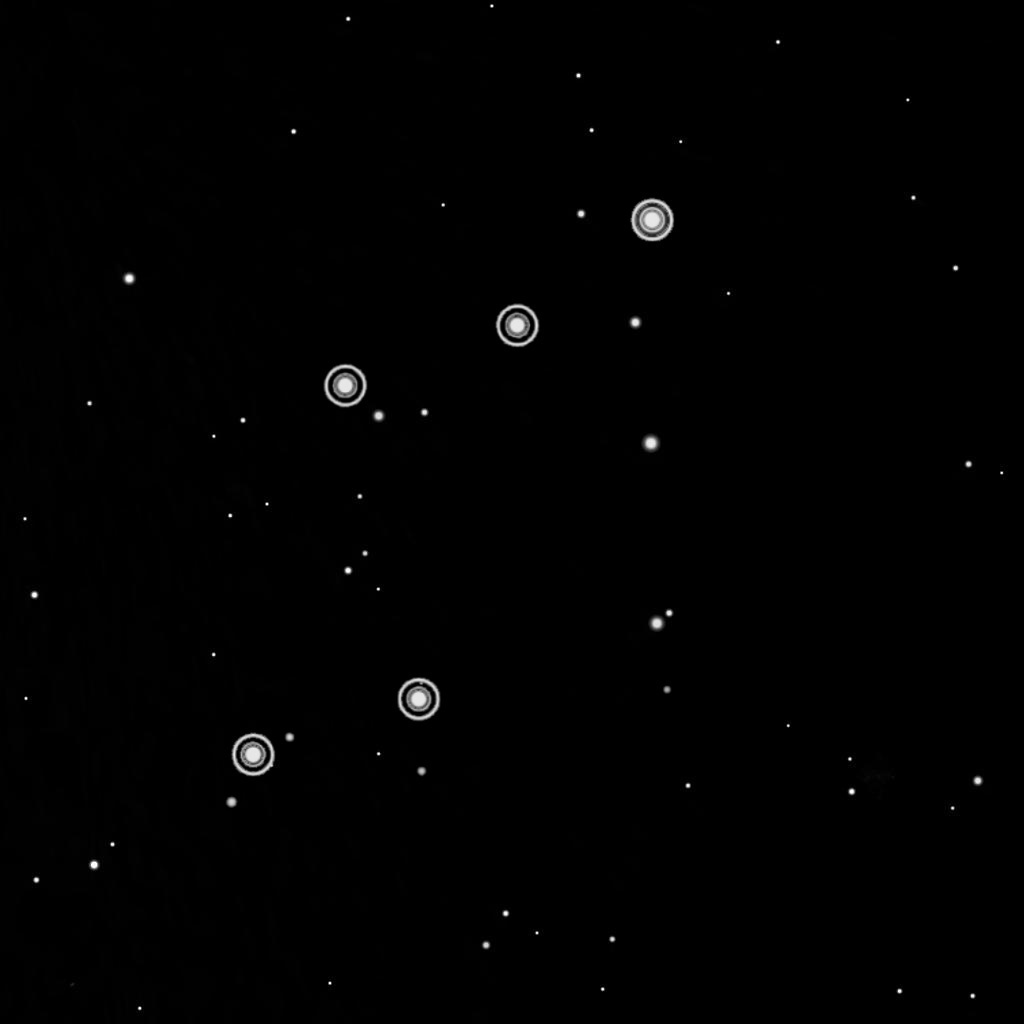lyra: (215, 179, 686, 800)
